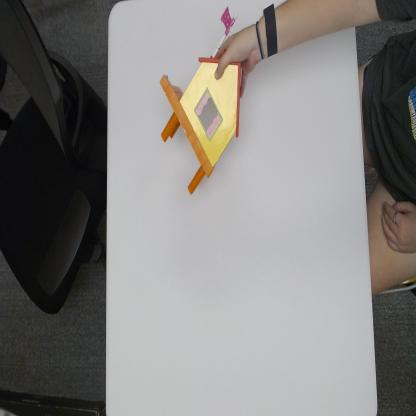Arm: (282, 0, 382, 51)
Hand: (214, 25, 268, 93)
House: (161, 6, 241, 200)
